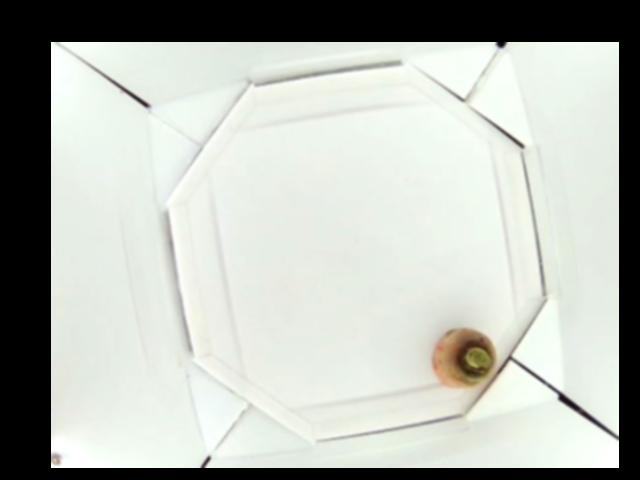Carrot: (432, 326, 495, 388)
